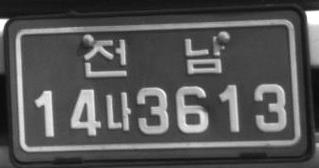1: (216, 84, 246, 134), (31, 89, 61, 138)
3: (252, 81, 288, 133), (136, 85, 169, 136)
4: (69, 88, 102, 137)
6: (174, 84, 209, 135)
서울_D: (104, 90, 131, 132)
전남_D: (82, 34, 226, 78)
